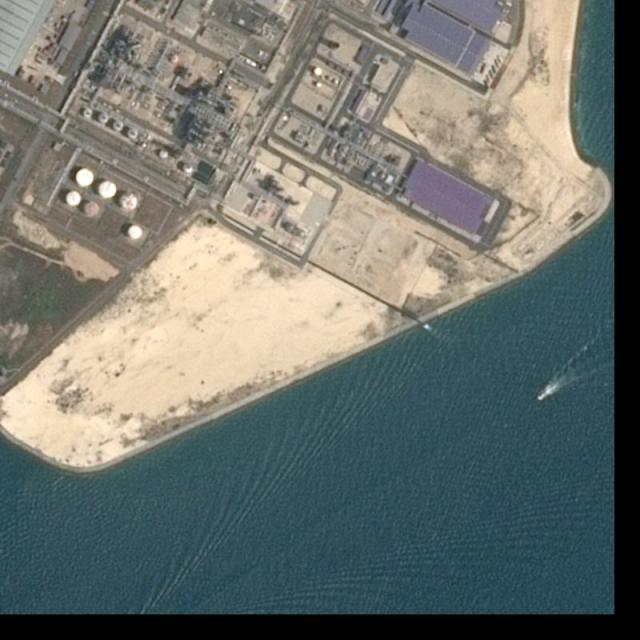ship: (537, 393, 546, 402)
